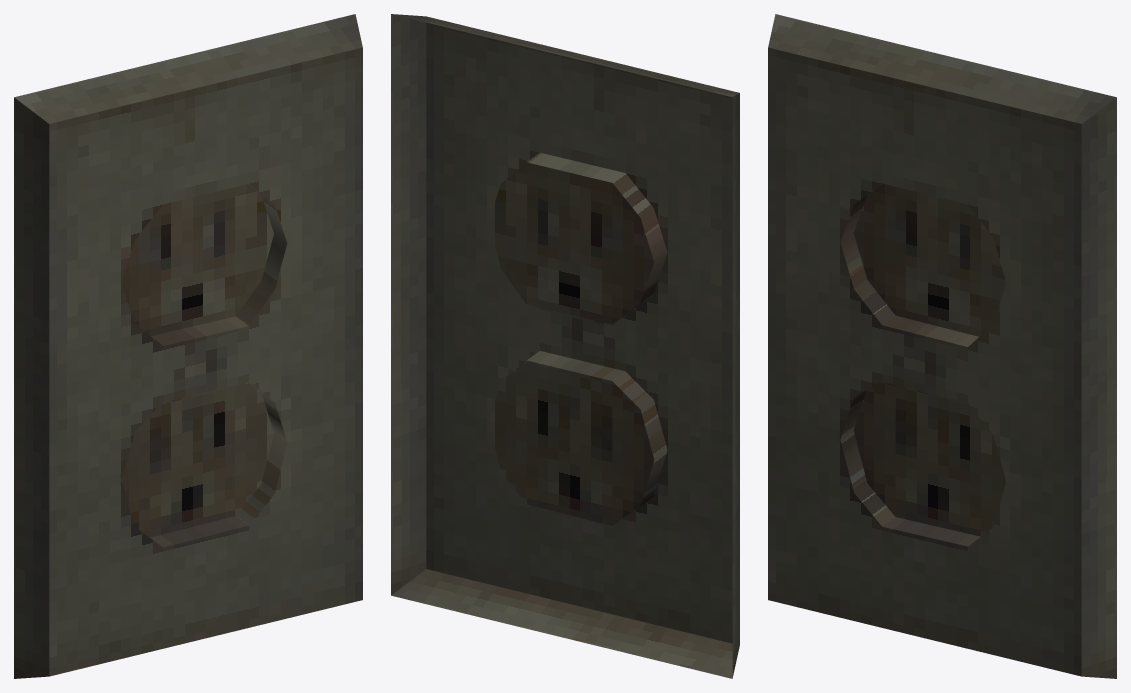
File: electrical_outlet_1.fbx
3 renders of one model, left to right at view 1: azimuth 30°, elevation 25°; view 2: azimuth 150°, elevation 25°; view 3: azimuth 330°, elevation 25°, orthographic.
Visible parts, largest first — view 1: obj1; view 2: obj1; view 3: obj1.
Boxes of the visible parts, box(x1,y1,x2,y2) form: obj1: box(14, 14, 362, 678); obj1: box(391, 14, 739, 678); obj1: box(768, 14, 1116, 678).
Size of the model in its own units: 11.13 by 18.12 by 1.2.
Materials: 1 (1 with a texture image).
